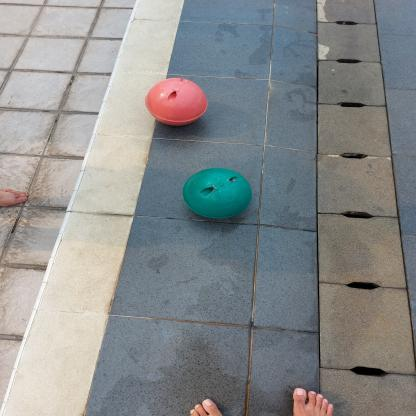green_buoy: (181, 166, 253, 221)
red_buoy: (143, 77, 214, 129)
